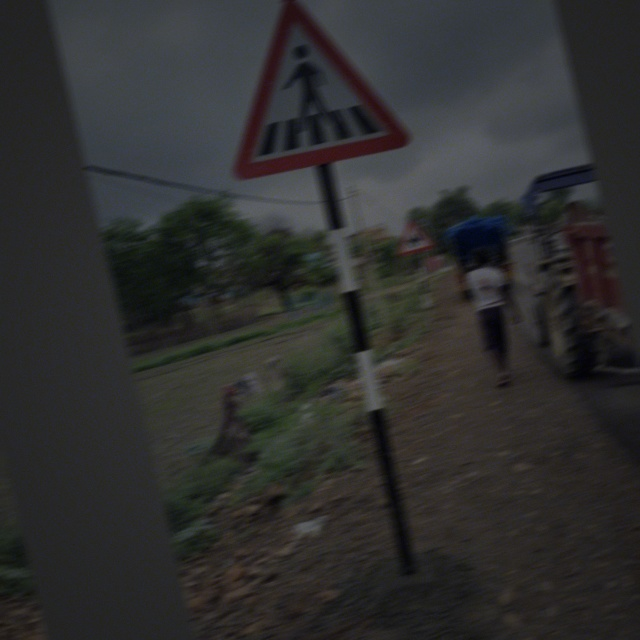Pedestrian_Crossing: (200, 1, 409, 183)
